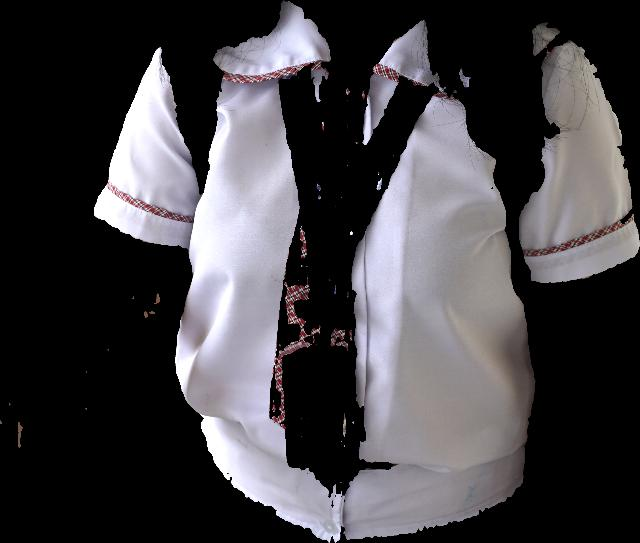pologirl: (94, 0, 535, 542)
